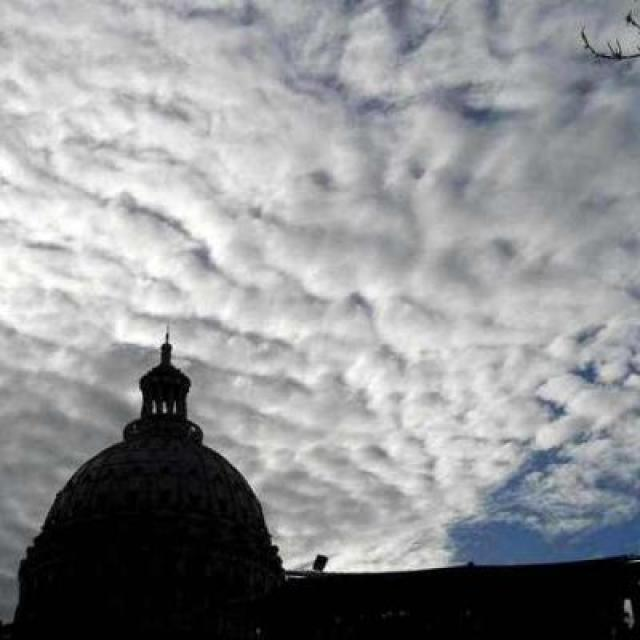Ac: (3, 20, 623, 313)
